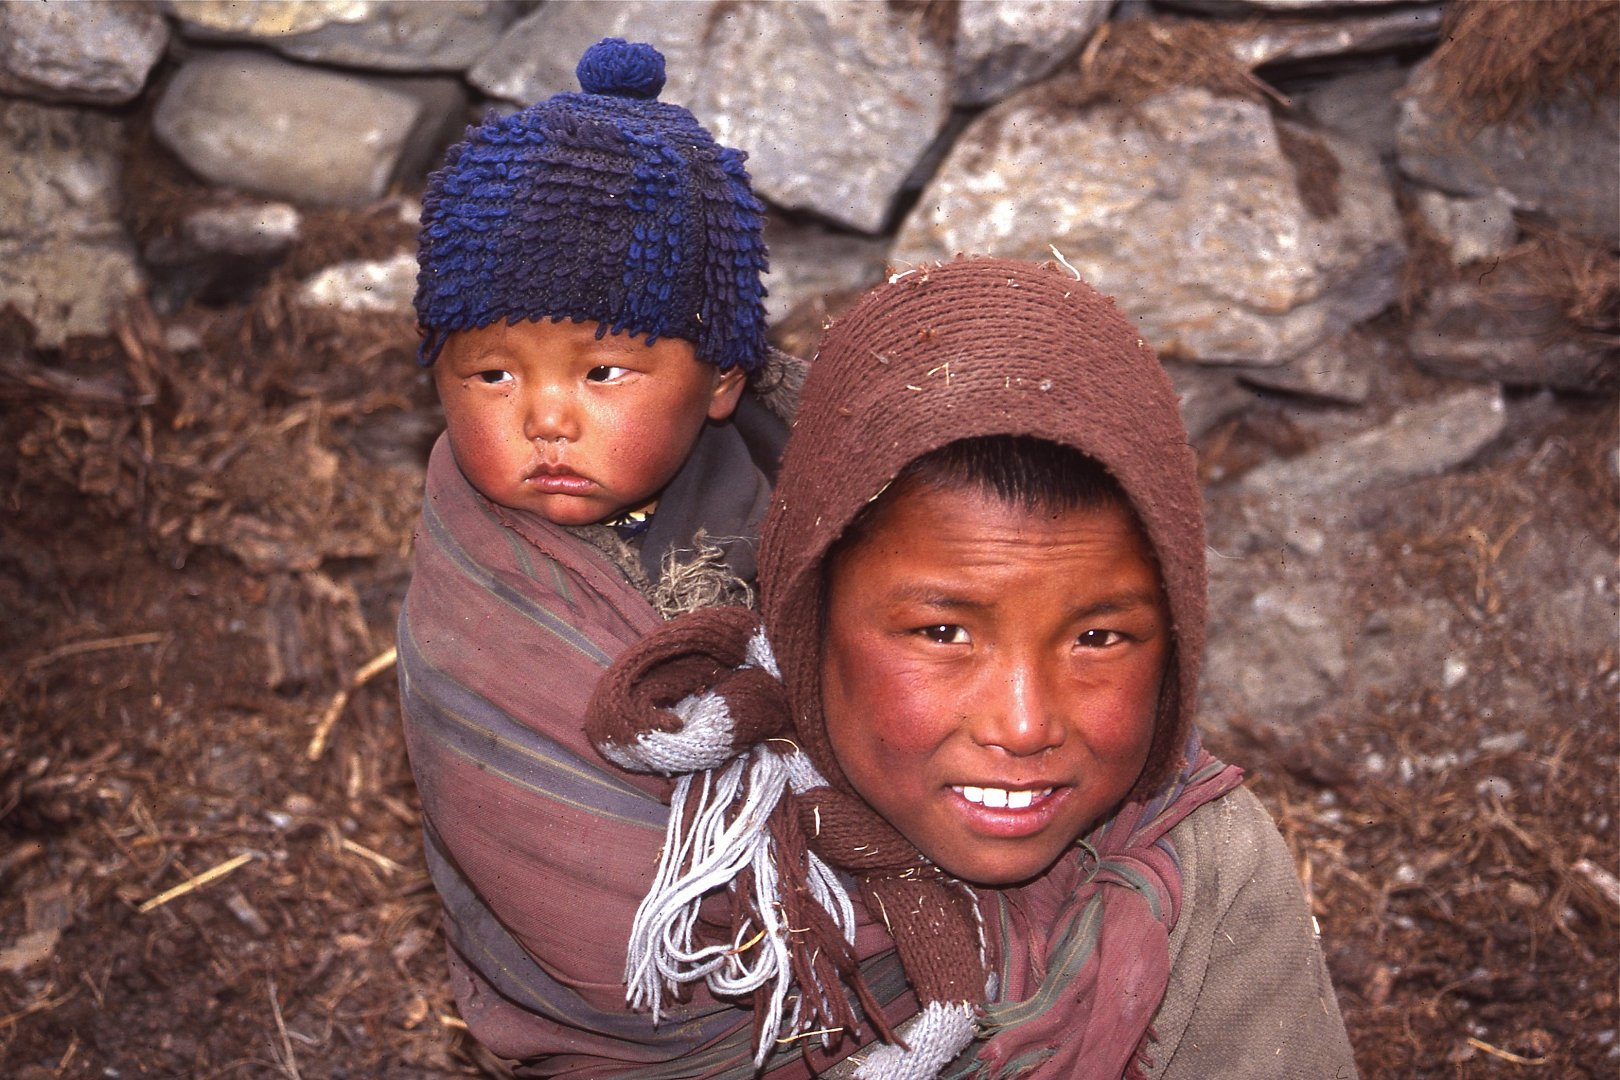human: (727, 244, 1379, 1080), (367, 18, 818, 1080)
